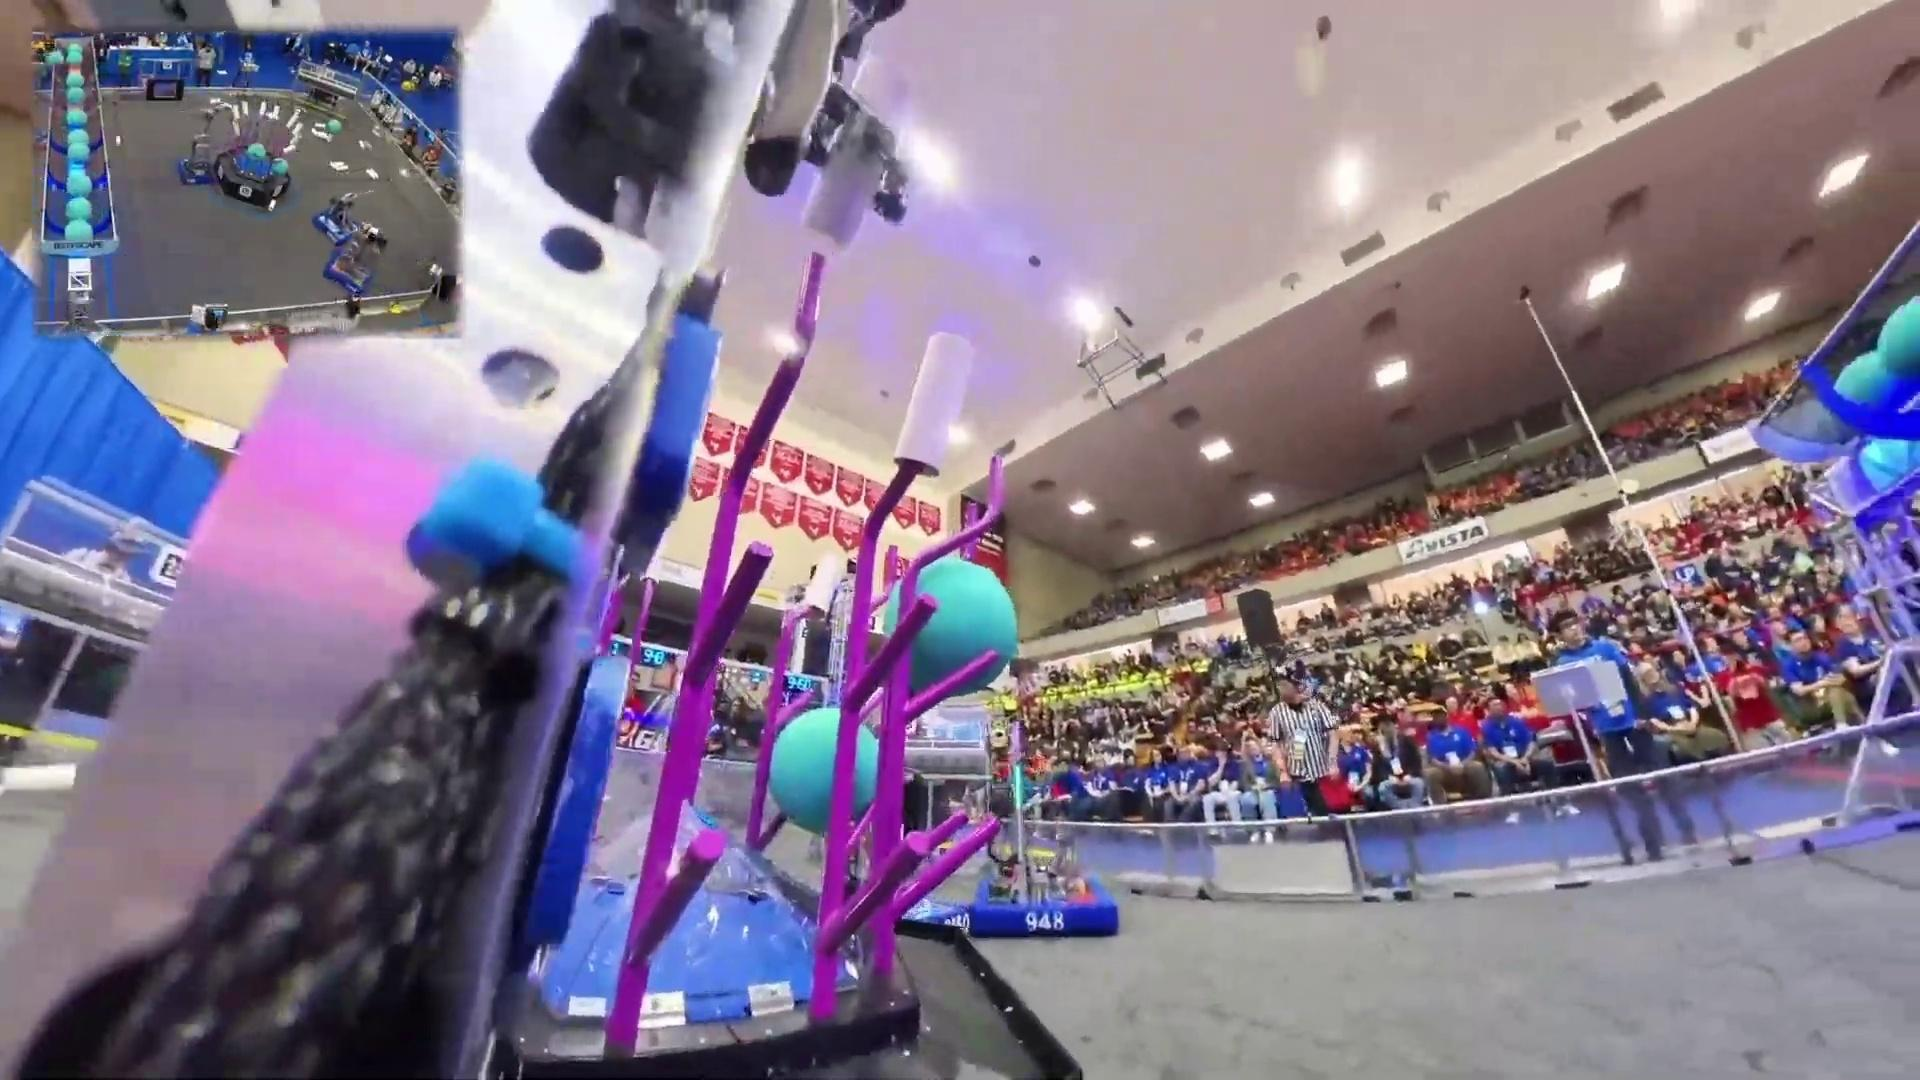robot: (960, 723, 1118, 940), (322, 223, 384, 299), (177, 100, 222, 186), (311, 191, 359, 244)
